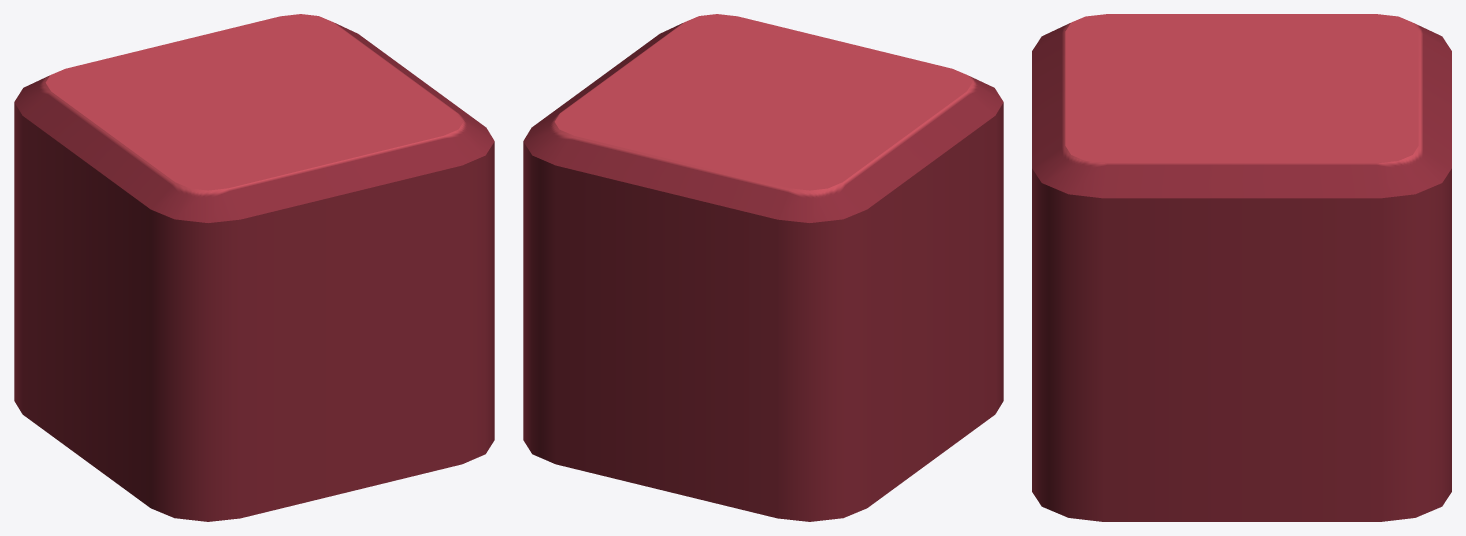
Rendered from cube_Red.fbx.
3 renders of one model, left to right at view 1: azimuth 30°, elevation 25°; view 2: azimuth 150°, elevation 25°; view 3: azimuth 270°, elevation 25°, orthographic. The views are drawn at different scales.
Visible parts, largest first — view 1: cube_Red; view 2: cube_Red; view 3: cube_Red.
Part boxes in pixels (box(x1,y1,x2,y2)): cube_Red: box(14, 14, 494, 521); cube_Red: box(523, 14, 1003, 521); cube_Red: box(1032, 14, 1451, 521).
Size of the model in its own units: 100 by 90.58 by 100.
